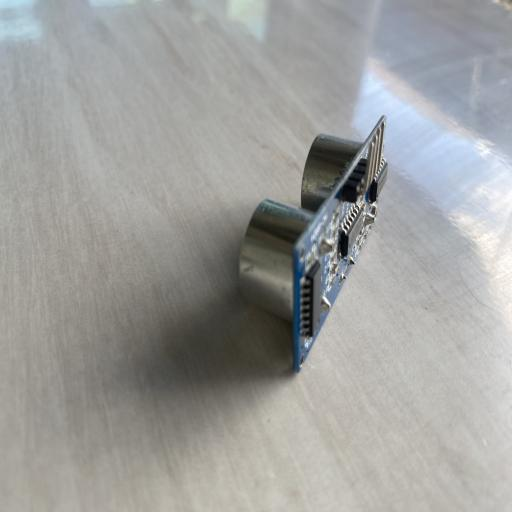Ultrasonic Sensor: (238, 113, 389, 373)
